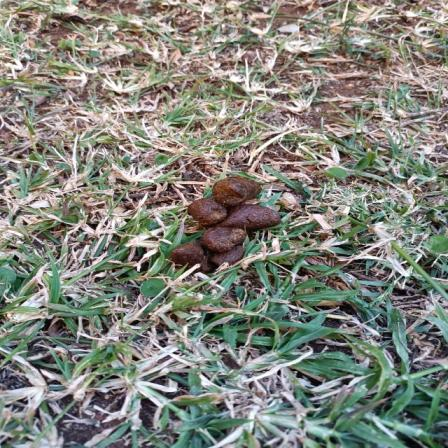dog-poop: (178, 176, 279, 270)
